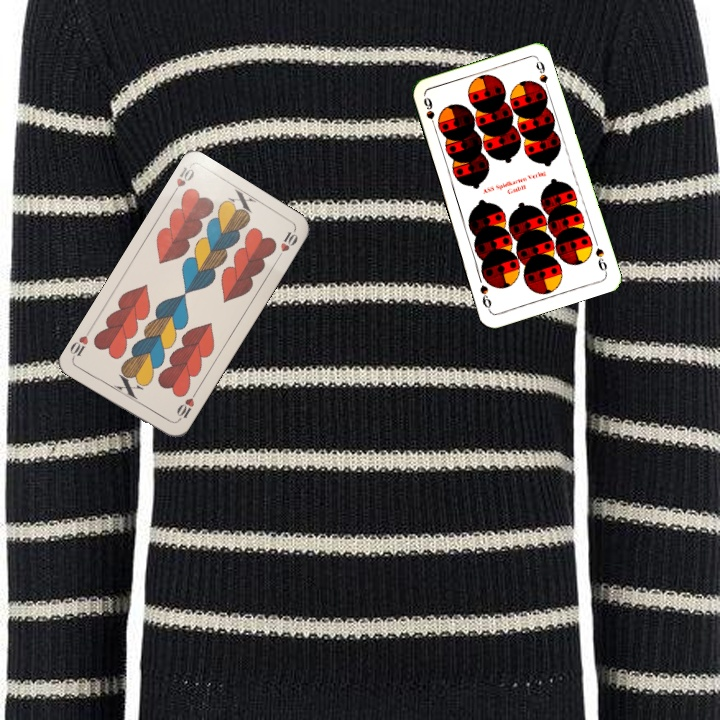H10: (167, 163, 197, 200), (172, 388, 199, 424)
S9: (419, 93, 439, 133), (591, 244, 610, 276)
